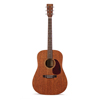guitar: (32, 3, 68, 96)
